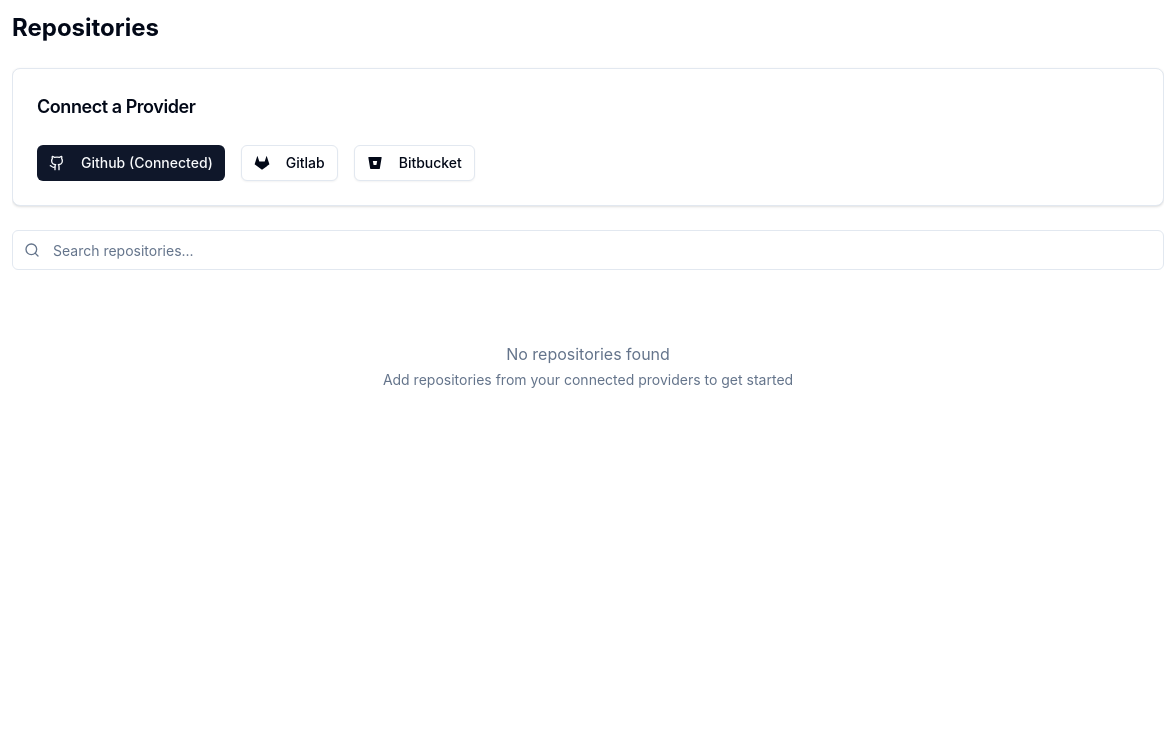
Test: Repositories › Add Repository › shows discovered repositories when provider is selected
This screenshot has width=1176, height=732.
Click the button "github (Connected)" at (131, 163), box left=37, top=145, right=225, bottom=181
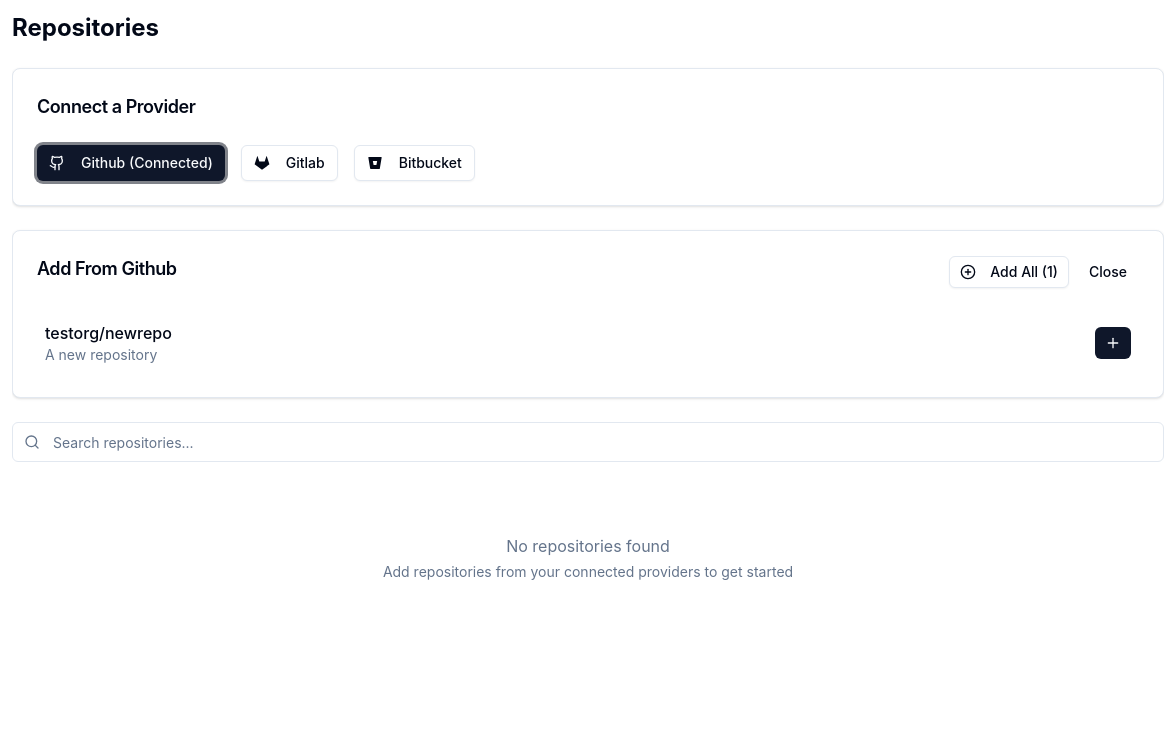
Check: the text "testorg/newrepo" is shown, box left=45, top=321, right=172, bottom=345
Check: the text "A new repository" is shown, box left=45, top=345, right=172, bottom=365
